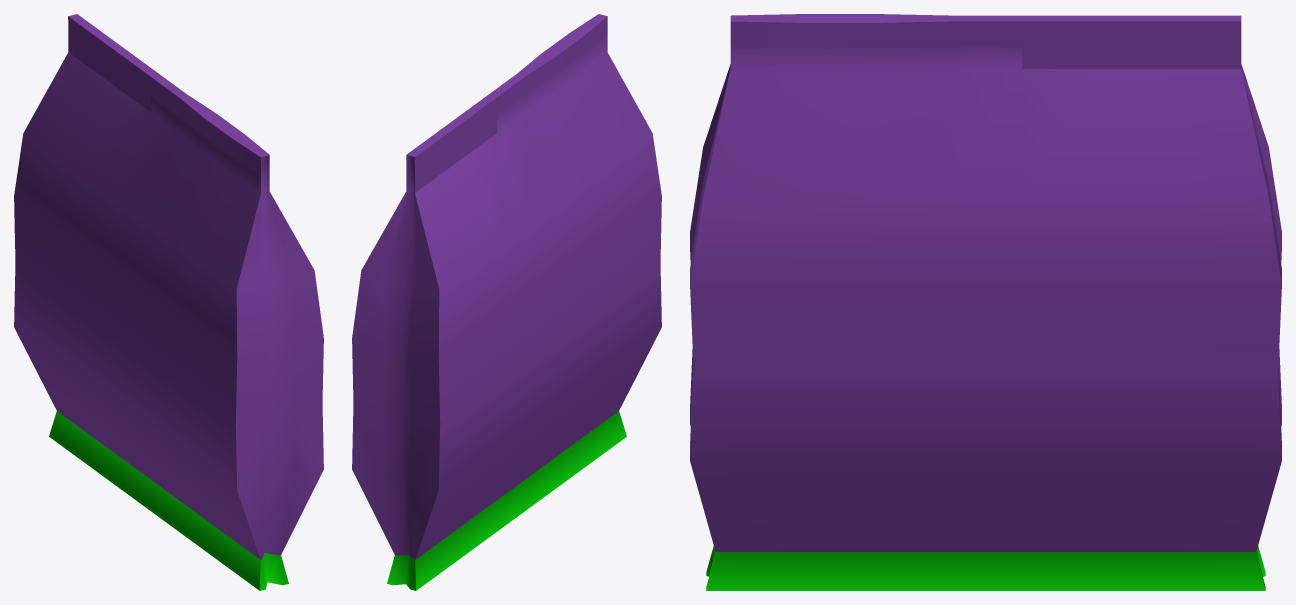
Rendered from chip_bag.fbx.
3 views of the same model, side by side, from view 1: azimuth 30°, elevation 25°; view 2: azimuth 150°, elevation 25°; view 3: azimuth 270°, elevation 25° (orthographic). The views are drawn at different scales.
Visible parts, largest first — view 1: chip_bag; view 2: chip_bag; view 3: chip_bag.
Boxes of the visible parts, x1=… form: chip_bag: x1=14, y1=14, x2=323, y2=590; chip_bag: x1=352, y1=14, x2=661, y2=590; chip_bag: x1=690, y1=14, x2=1281, y2=590.
Size of the model in its own units: 0.2244 by 1.05 by 1.
